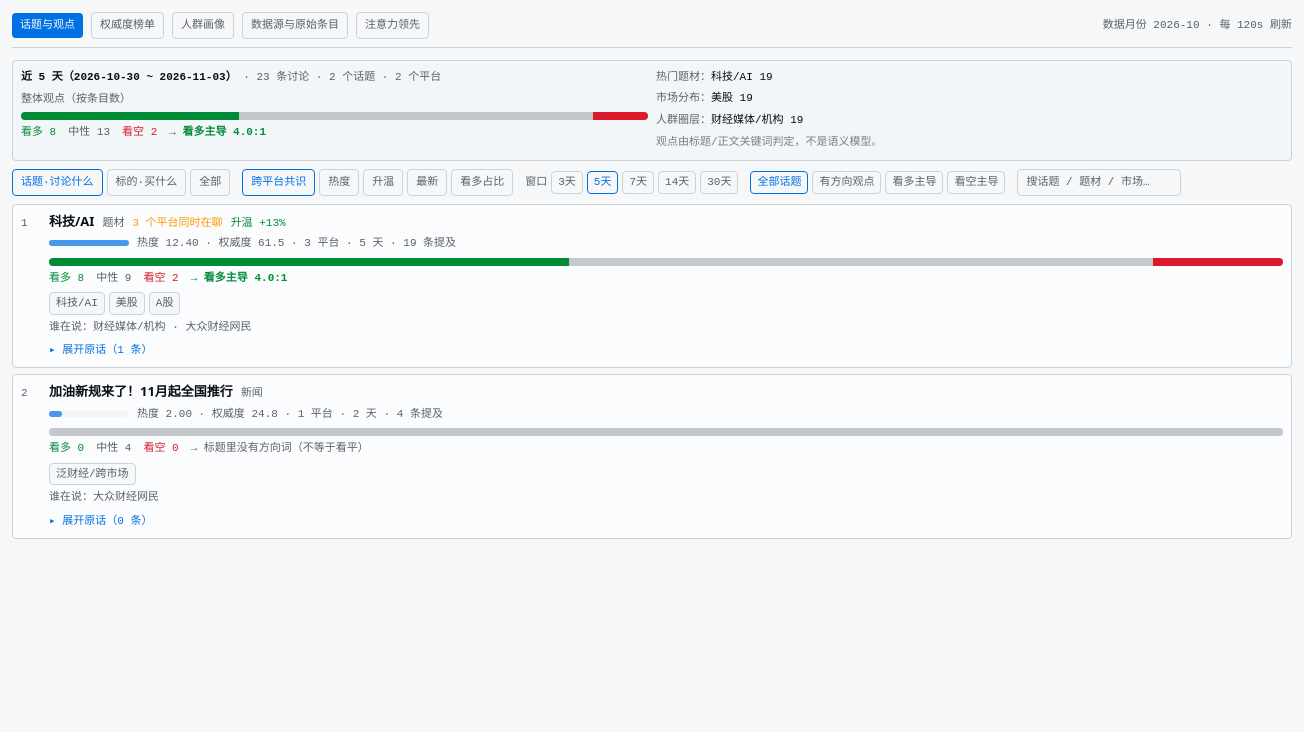
CrowdPulsePanel · v317 注意力领先视图 › shows empty state instead of placeholder rows
Click the button "权威度榜单".
click(128, 25)  # box [91,12,164,38]
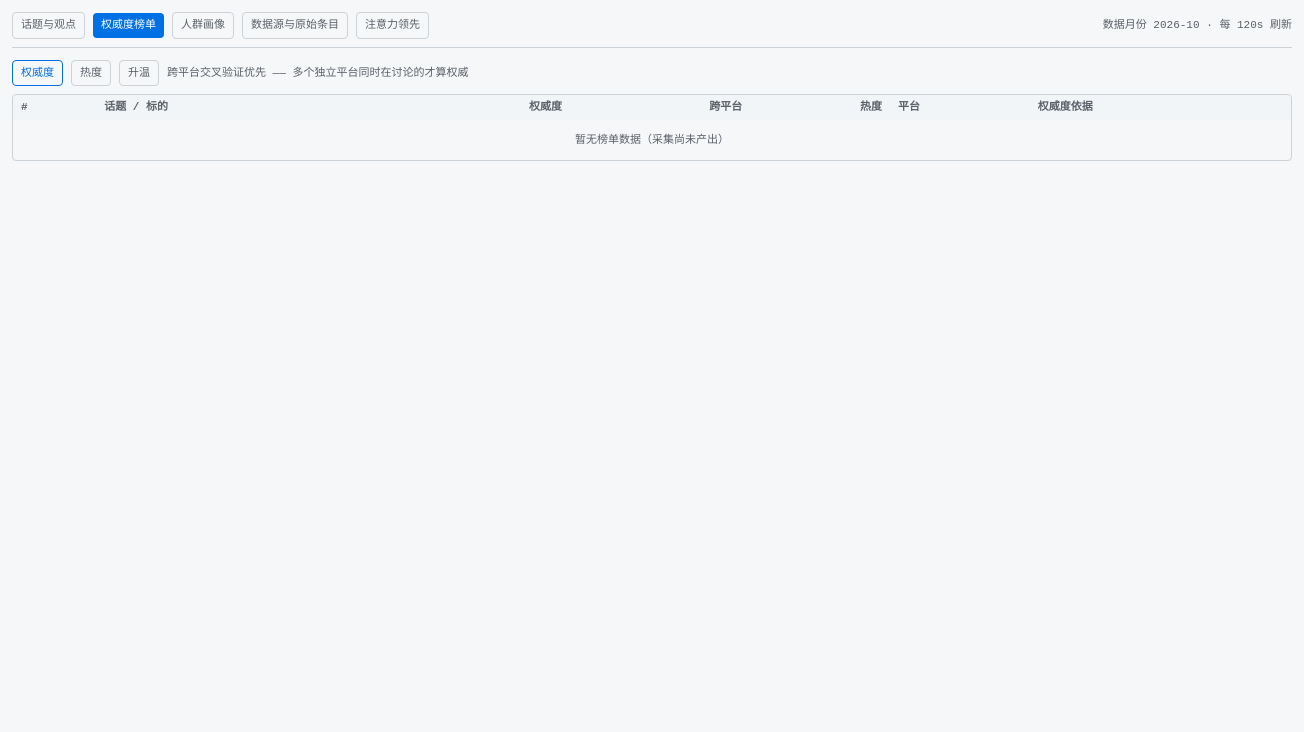
Expected: the text "暂无榜单数据（采集尚未产出）" is shown, [13,120,1291,160]
